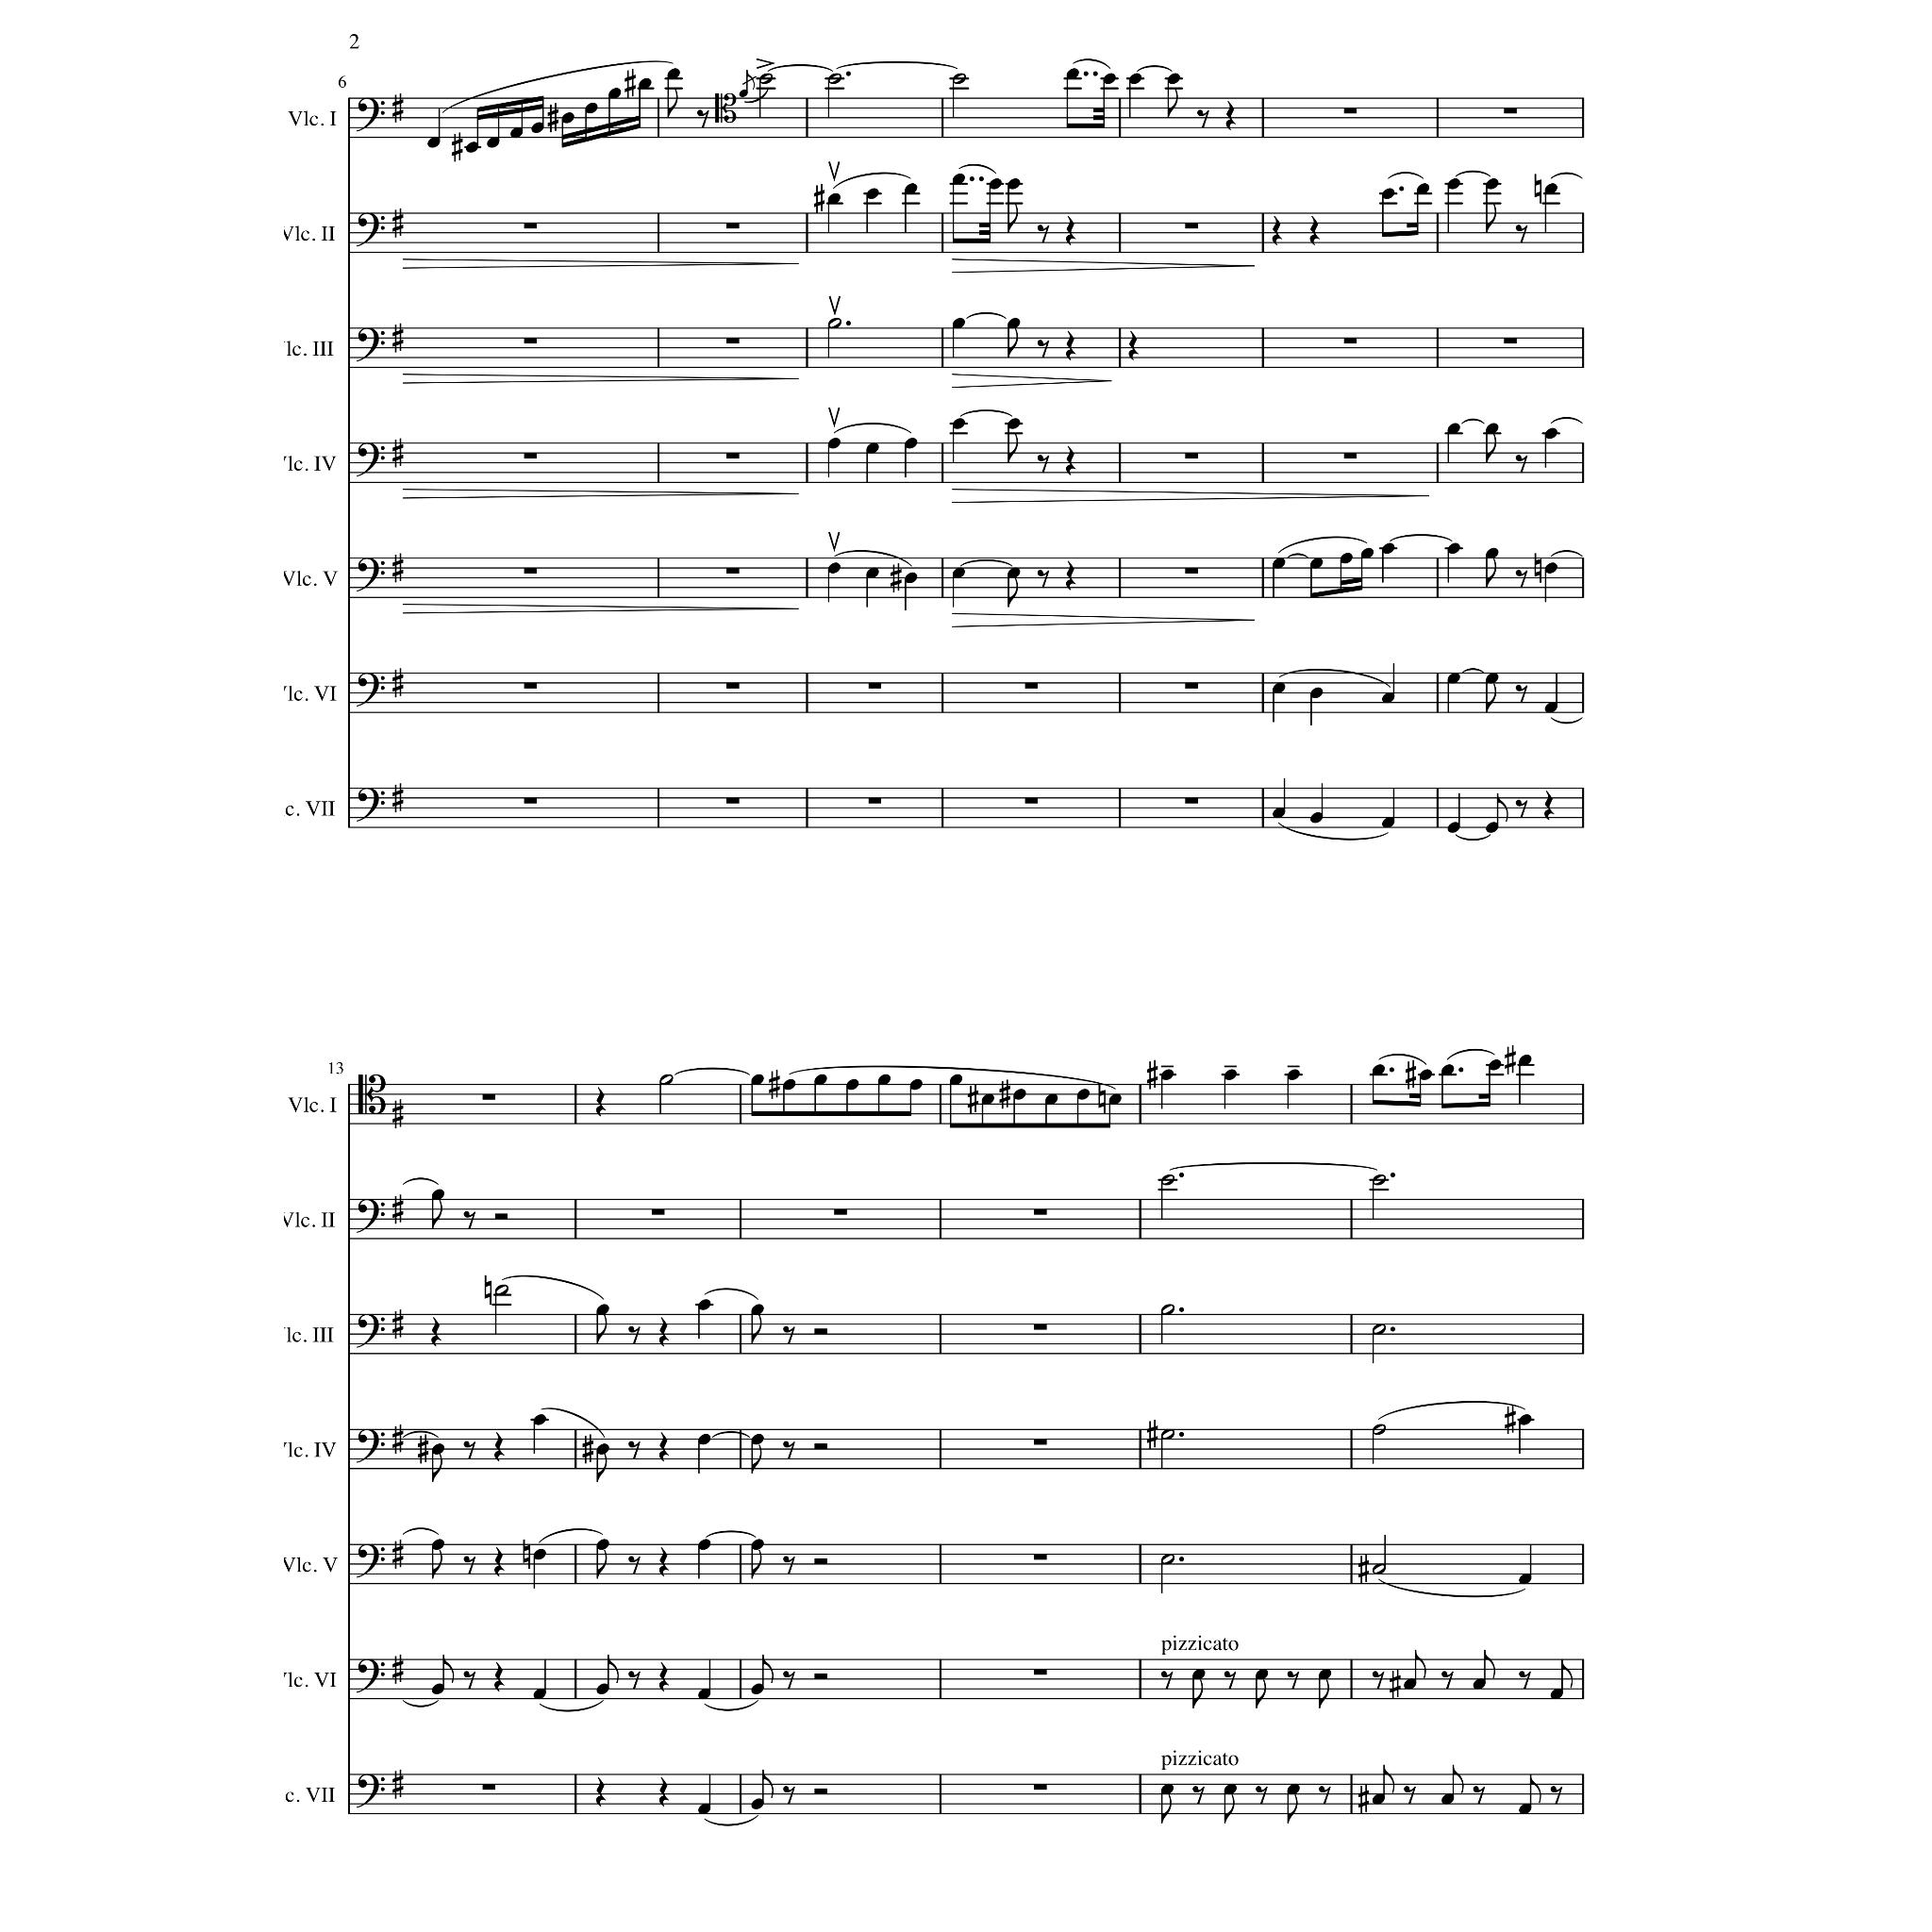fClef: (356, 97, 384, 133), (356, 212, 384, 248), (356, 327, 384, 363), (356, 442, 384, 478), (356, 557, 384, 593), (356, 672, 384, 708), (356, 787, 384, 823), (356, 1198, 384, 1233), (356, 1313, 384, 1348), (356, 1430, 384, 1463), (356, 1545, 384, 1578), (356, 1660, 384, 1693), (356, 1775, 384, 1808)
flag8thDown: (1168, 88, 1178, 119), (1486, 203, 1497, 234), (1486, 433, 1497, 464), (1486, 557, 1497, 587), (1486, 683, 1497, 713), (667, 88, 678, 119), (1008, 203, 1019, 234), (1008, 433, 1019, 464), (1224, 1794, 1235, 1824), (1256, 1679, 1267, 1709), (1162, 1794, 1173, 1824), (1192, 1679, 1203, 1709), (1320, 1679, 1330, 1709), (1288, 1794, 1299, 1824), (596, 1453, 607, 1483), (596, 1315, 607, 1345), (432, 1453, 442, 1483), (752, 1315, 763, 1345), (1008, 329, 1019, 357), (1008, 579, 1019, 607), (596, 1550, 607, 1578), (432, 1200, 442, 1228), (432, 1550, 442, 1578), (752, 1550, 763, 1578), (752, 1445, 763, 1474)
flag8thUp: (741, 64, 757, 90), (1497, 793, 1509, 823), (1384, 1764, 1396, 1794), (1453, 1764, 1465, 1794), (607, 1656, 619, 1684), (1562, 1660, 1573, 1690), (1530, 1775, 1541, 1805), (1484, 1649, 1495, 1679), (1415, 1649, 1426, 1679), (442, 1656, 453, 1684), (763, 1656, 773, 1684), (763, 1769, 773, 1798)
noteheadBlack: (1339, 552, 1353, 564), (1382, 543, 1396, 556), (1382, 692, 1396, 704), (1272, 557, 1286, 570), (1272, 807, 1286, 819), (637, 78, 651, 90), (531, 122, 545, 134), (561, 111, 575, 124), (1007, 418, 1021, 430), (1371, 1792, 1385, 1805), (1371, 1063, 1385, 1076), (1286, 1783, 1300, 1796), (1076, 1088, 1090, 1100), (1161, 1783, 1175, 1796), (1518, 1054, 1532, 1067), (1518, 1414, 1532, 1426), (1518, 1573, 1532, 1585), (1472, 1677, 1486, 1690), (1403, 1677, 1417, 1690), (533, 1414, 547, 1426), (814, 1074, 828, 1086), (948, 1074, 962, 1086), (750, 1798, 764, 1810), (750, 1074, 764, 1086), (750, 1433, 764, 1445), (750, 1537, 764, 1550), (750, 1683, 764, 1695), (697, 1299, 711, 1311), (697, 1433, 711, 1445), (697, 1537, 711, 1550), (1417, 182, 1430, 195), (1447, 543, 1460, 556), (1447, 672, 1460, 685), (1447, 821, 1460, 833), (1311, 557, 1323, 570), (1486, 672, 1499, 685), (1486, 821, 1499, 833), (1545, 182, 1557, 195), (586, 103, 598, 115), (828, 437, 840, 449), (828, 193, 840, 205), (487, 136, 499, 149), (426, 136, 439, 149), (904, 182, 916, 195), (904, 437, 916, 449), (952, 418, 964, 430), (952, 173, 964, 186), (1224, 1783, 1237, 1796), (1256, 1668, 1269, 1681), (1192, 1668, 1205, 1681), (1318, 1668, 1330, 1681), (1014, 1088, 1026, 1100), (1442, 1063, 1454, 1076), (1442, 1792, 1454, 1805), (596, 1537, 609, 1550), (596, 1683, 609, 1695), (432, 1537, 444, 1550), (432, 1683, 444, 1695), (878, 1074, 890, 1086), (1361, 548, 1375, 559), (1382, 189, 1396, 200), (1382, 817, 1396, 828), (1272, 683, 1286, 694), (1007, 179, 1021, 189), (1007, 318, 1021, 329), (1007, 568, 1021, 579), (1102, 74, 1116, 85), (865, 189, 879, 200), (865, 442, 879, 453), (865, 568, 879, 579), (1286, 1070, 1300, 1081), (1161, 1070, 1175, 1081), (1518, 1803, 1532, 1813), (1488, 1060, 1502, 1070), (533, 1550, 547, 1560), (533, 1688, 547, 1698), (846, 1079, 860, 1090), (750, 1304, 764, 1315), (697, 1688, 711, 1698), (697, 1803, 711, 1813), (1311, 812, 1323, 823), (1447, 179, 1460, 189), (1447, 423, 1460, 433), (1168, 74, 1180, 85), (1129, 74, 1141, 85), (1311, 688, 1323, 699), (1486, 548, 1499, 559), (1486, 179, 1499, 189), (1486, 423, 1499, 433), (1545, 702, 1557, 713), (1545, 428, 1557, 439), (1545, 563, 1557, 573), (609, 88, 621, 99), (667, 69, 679, 80), (828, 563, 840, 573), (510, 127, 522, 138), (465, 142, 478, 152), (989, 179, 1001, 189), (1067, 69, 1079, 80), (904, 573, 916, 584), (952, 318, 964, 329), (952, 568, 964, 579), (1224, 1070, 1237, 1081), (1109, 1093, 1122, 1104), (982, 1093, 994, 1104), (1046, 1093, 1058, 1104), (1552, 1688, 1564, 1698), (1419, 1070, 1431, 1081), (596, 1304, 609, 1315), (596, 1444, 609, 1454), (432, 1189, 444, 1200), (432, 1444, 444, 1454), (782, 1079, 794, 1090), (909, 1079, 922, 1090), (738, 88, 748, 97)
noteheadHalf: (1373, 1424, 1387, 1437), (1161, 1553, 1175, 1566), (658, 1074, 672, 1086), (495, 1284, 510, 1297), (759, 74, 773, 85), (828, 74, 842, 85), (828, 318, 842, 329), (952, 74, 966, 85), (1373, 1175, 1387, 1185), (1373, 1323, 1387, 1334), (1373, 1564, 1387, 1575), (1161, 1175, 1175, 1185), (1161, 1304, 1175, 1315), (1161, 1430, 1175, 1440)
rest8th: (1514, 225, 1529, 244), (1514, 455, 1529, 474), (1514, 570, 1529, 589), (1514, 685, 1529, 704), (1514, 800, 1529, 819), (1254, 1785, 1269, 1805), (1371, 1670, 1385, 1690), (1518, 1670, 1532, 1690), (1472, 1785, 1486, 1805), (1440, 1670, 1454, 1690), (1198, 110, 1210, 129), (697, 110, 709, 129), (1037, 225, 1049, 244), (1037, 340, 1049, 359), (1037, 455, 1049, 474), (1037, 570, 1049, 589), (1224, 1670, 1237, 1690), (1192, 1785, 1205, 1805), (1318, 1785, 1330, 1805), (1161, 1670, 1173, 1690), (1550, 1785, 1562, 1805), (1405, 1785, 1417, 1805), (628, 1555, 640, 1575), (628, 1670, 640, 1690), (782, 1555, 794, 1575), (782, 1670, 794, 1690), (782, 1785, 794, 1805), (628, 1327, 640, 1345), (628, 1442, 640, 1460), (782, 1327, 794, 1345), (782, 1442, 794, 1460), (1288, 1670, 1299, 1690), (464, 1555, 474, 1575), (464, 1670, 474, 1690), (464, 1212, 474, 1230), (464, 1442, 474, 1460)
restHalf: (494, 1214, 508, 1221), (814, 1329, 828, 1336), (814, 1444, 828, 1449), (814, 1559, 828, 1564), (814, 1674, 828, 1679), (814, 1789, 828, 1794)
restQuarter: (658, 1546, 669, 1578), (494, 1546, 504, 1578), (1226, 101, 1237, 131), (1129, 331, 1139, 361), (1309, 216, 1320, 246), (1272, 216, 1283, 246), (1065, 446, 1076, 476), (1065, 561, 1076, 591), (1065, 331, 1076, 361), (1065, 216, 1076, 246), (596, 1086, 607, 1116), (596, 1776, 607, 1806), (658, 1776, 669, 1806), (658, 1316, 669, 1346), (658, 1431, 669, 1461), (658, 1663, 669, 1693), (430, 1316, 441, 1346), (494, 1431, 504, 1461), (494, 1663, 504, 1693), (1545, 791, 1553, 821)
restWhole: (1343, 453, 1357, 460), (1343, 338, 1357, 345), (1343, 108, 1357, 115), (867, 683, 881, 690), (725, 683, 740, 690), (725, 453, 740, 460), (725, 338, 740, 345), (725, 223, 740, 230), (1024, 683, 1039, 690), (524, 683, 538, 690), (1504, 108, 1518, 115), (1504, 338, 1518, 345), (524, 453, 538, 460), (524, 223, 538, 230), (524, 338, 538, 345), (833, 1208, 847, 1215), (1033, 1553, 1047, 1560), (1033, 1438, 1047, 1445), (1033, 1323, 1047, 1330), (1033, 1208, 1047, 1215), (651, 1208, 665, 1215), (481, 1093, 495, 1100), (1185, 683, 1198, 690), (1185, 453, 1198, 460), (1185, 223, 1198, 230), (867, 798, 881, 803), (725, 798, 740, 803), (725, 568, 740, 573), (1024, 798, 1039, 803), (524, 568, 538, 573), (524, 798, 538, 803), (1033, 1670, 1047, 1675), (1033, 1783, 1047, 1789), (481, 1783, 495, 1789), (1185, 798, 1198, 803), (1185, 568, 1198, 573)
